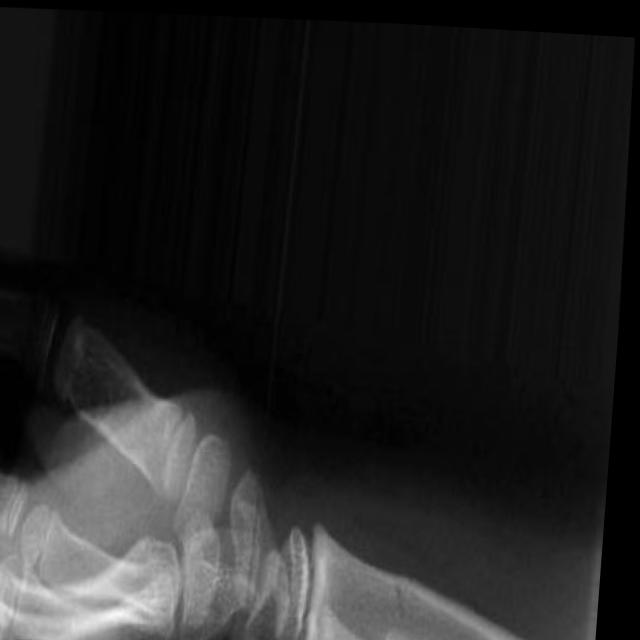fracture: (382, 540, 435, 640)
